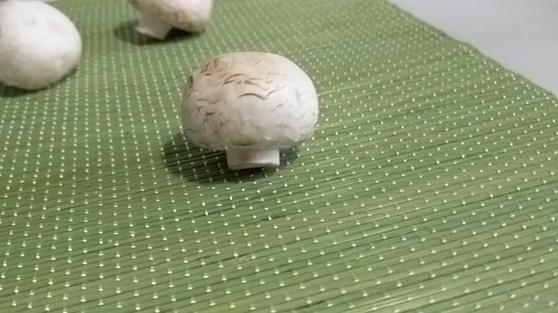champignon: (181, 49, 321, 173), (1, 1, 77, 92), (133, 1, 210, 44)
